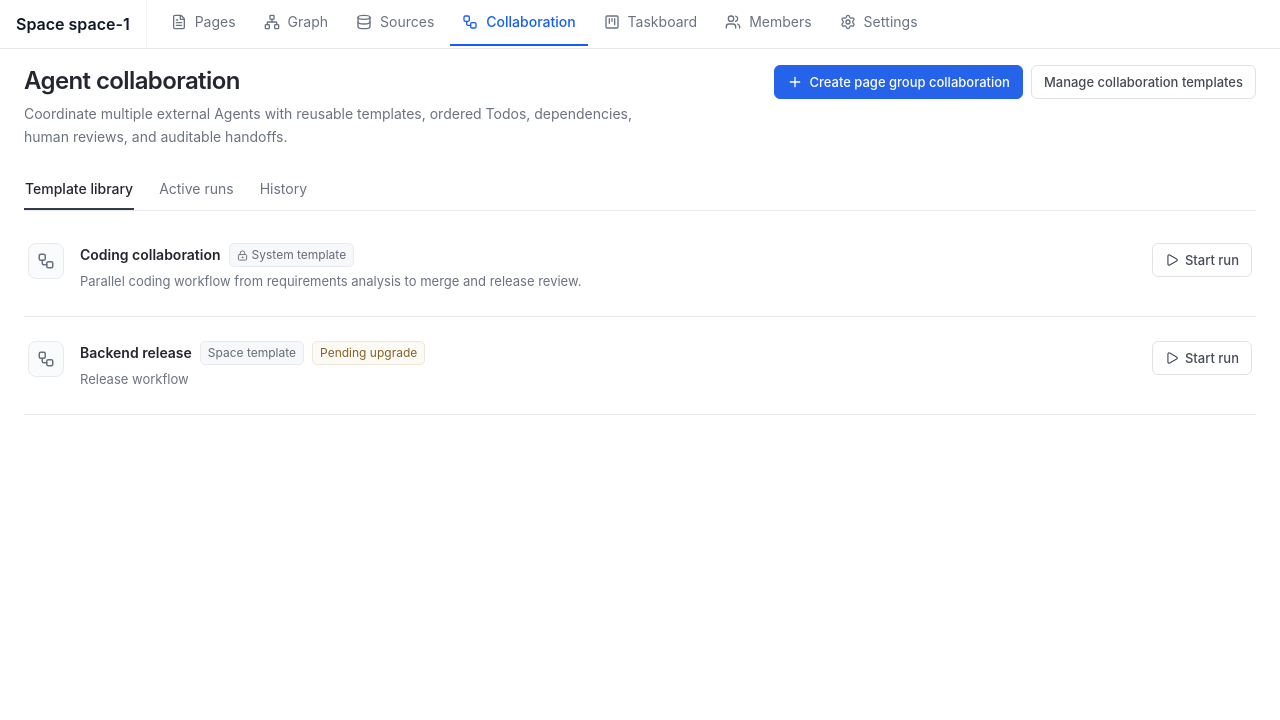
Test: CollaborationWorkspace › opens management from the single header entry in en
The width and height of the screenshot is (1280, 720).
expect the heading "Backend release" is shown: met, box 80,341 -> 192,365
Click the link "Manage collaboration templates". click: [1143, 82]
box: 1031,65 -> 1256,99
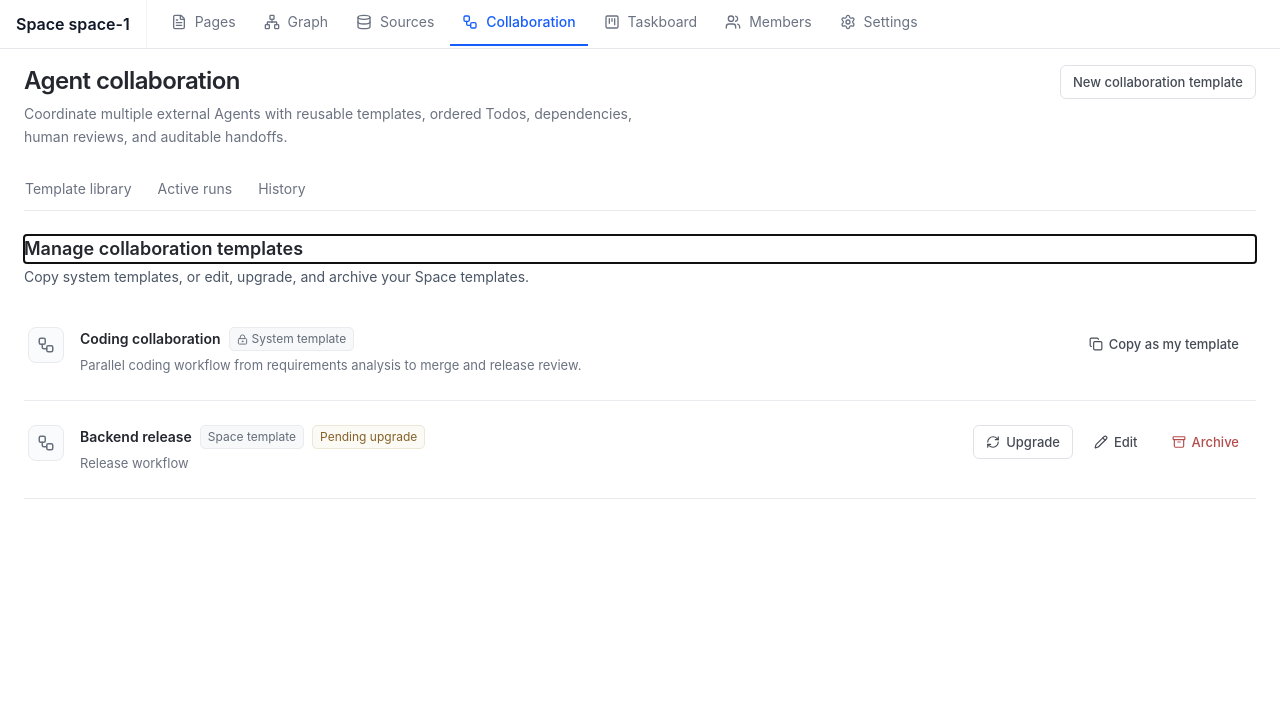
expect the heading "Manage collaboration templates" is shown: met, box 24,238 -> 303,259
expect the button "Create page group collaboration" is gone: met
